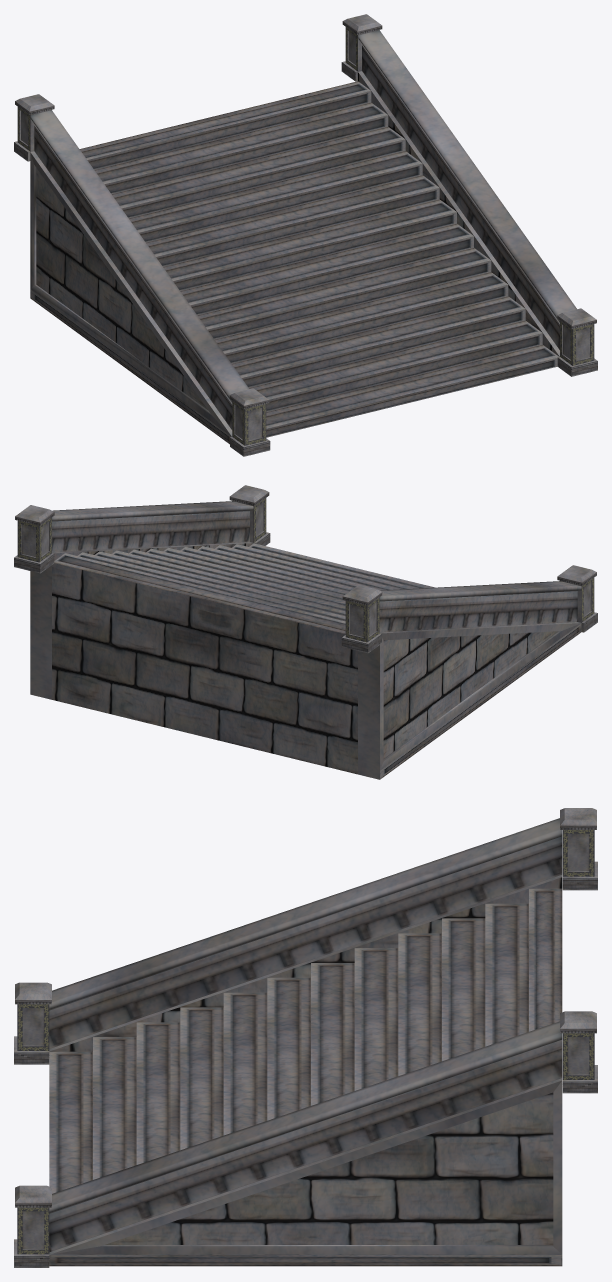
Rendered from platform_stairs_01.glb.
The picture shows the model from 3 angles, top to bottom: view 1: azimuth 30°, elevation 25°; view 2: azimuth 150°, elevation 25°; view 3: azimuth 270°, elevation 25°; orthographic projection. The views are drawn at different scales.
Visible parts, largest first — view 1: platform_stairs_01; view 2: platform_stairs_01; view 3: platform_stairs_01.
Part boxes in pixels (x1,y1,x2,y2): platform_stairs_01: (14, 14, 597, 456); platform_stairs_01: (14, 485, 597, 779); platform_stairs_01: (14, 808, 597, 1267).
Size of the model in its own units: 8.11 by 4.17 by 9.11.
1 material, 1 textured.
